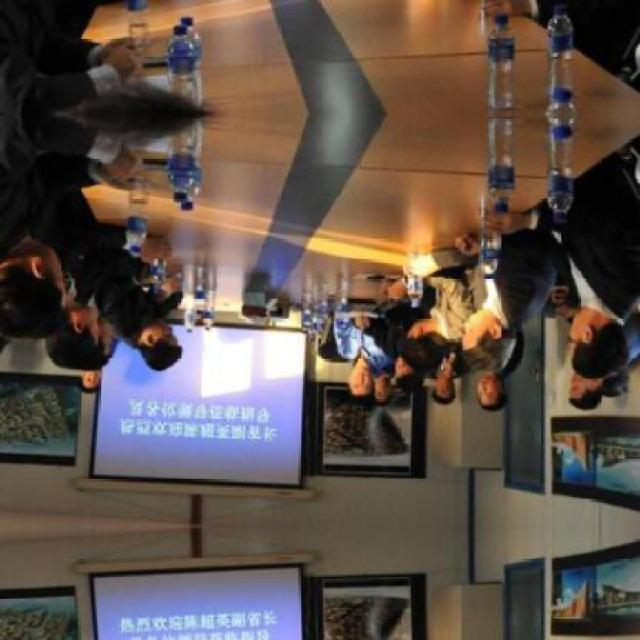sin casco: (0, 227, 78, 342), (556, 296, 640, 382), (139, 306, 209, 387), (370, 307, 449, 378), (437, 310, 507, 374), (33, 320, 98, 384), (328, 349, 383, 395), (464, 366, 504, 416)
